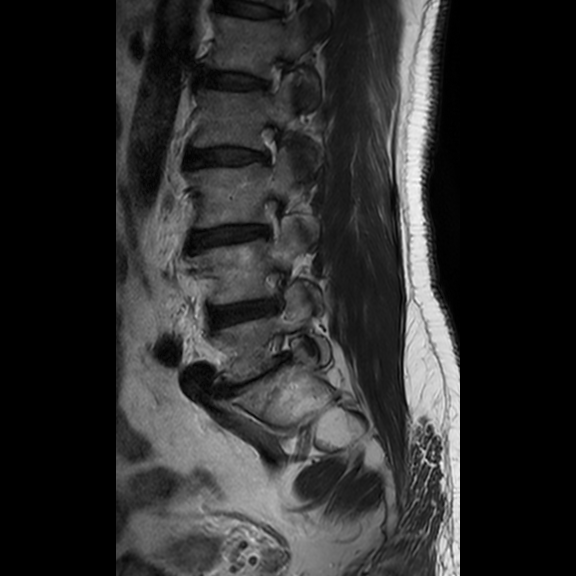LFS1: (242, 111, 290, 180)
